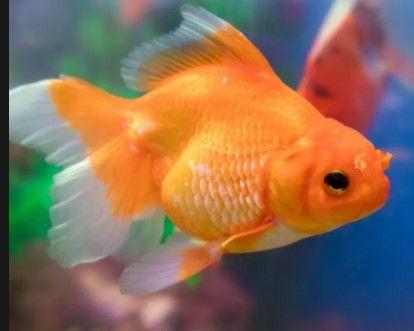Gold Fish: (10, 7, 391, 292)
